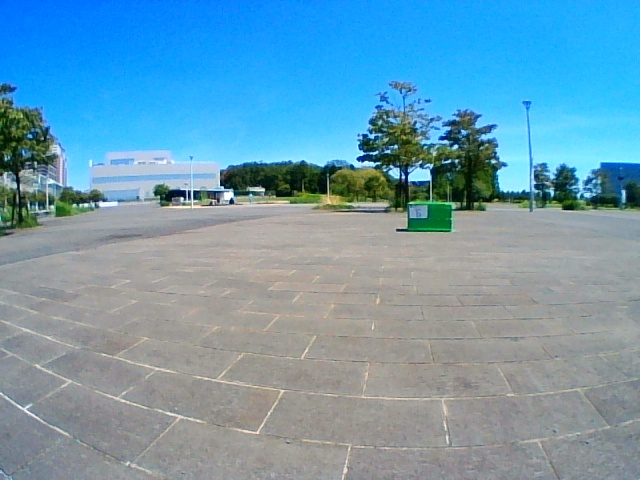green_box: (409, 201, 451, 231)
tag: (410, 204, 426, 218)
